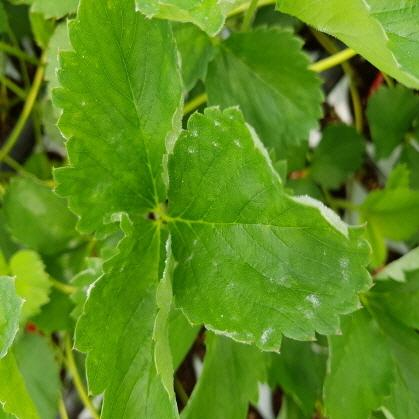Powdery Mildew Leaf: (164, 105, 375, 353), (49, 0, 185, 241), (71, 210, 180, 418), (275, 0, 418, 90)
